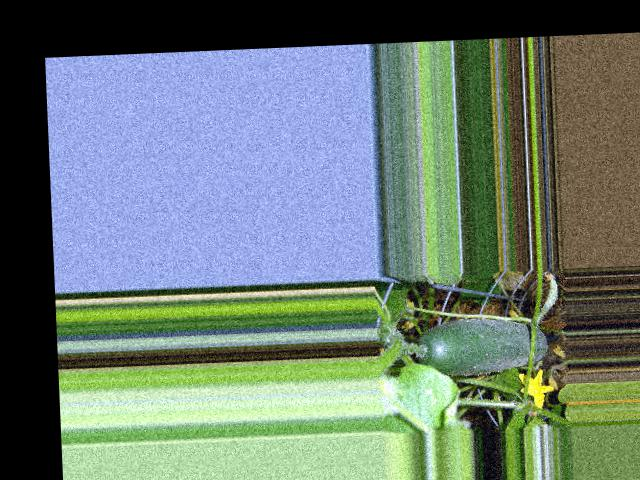cucumber: (415, 314, 547, 377)
